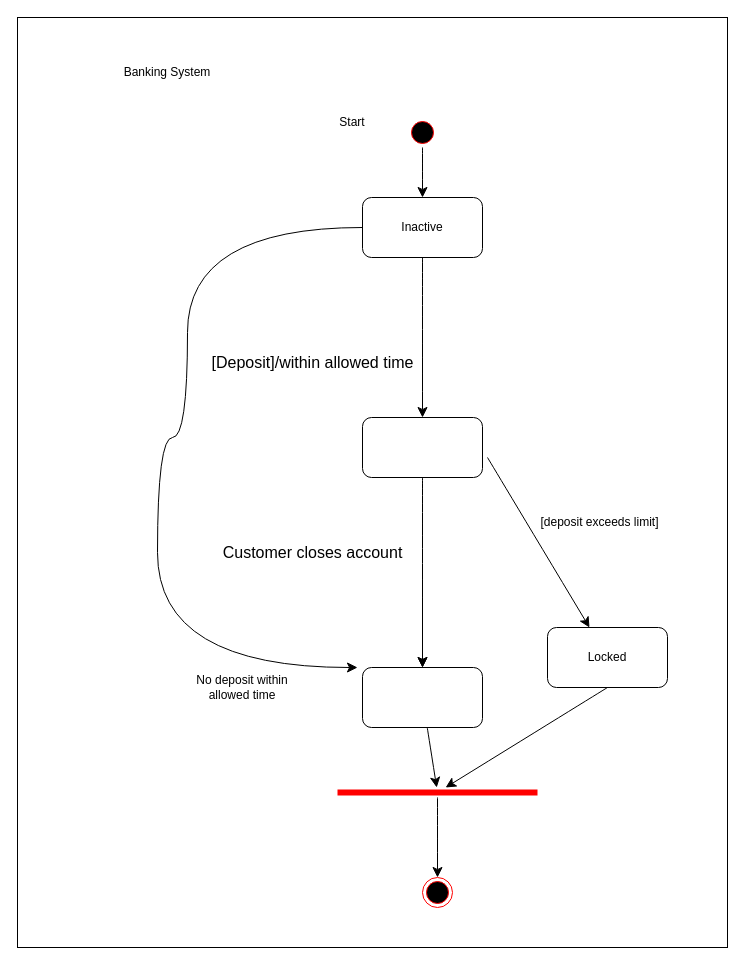
Some shapes in this 745 by 965 pixel diagram are drawn without their labels. Each missing label, with the box of its shape:
Active: (362, 416, 482, 478)
Closed: (362, 666, 482, 728)
